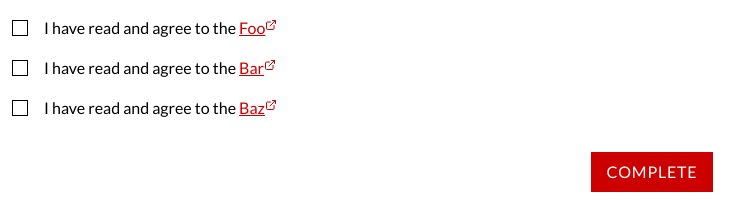
Test: can submit if all required docs reviewed
The image size is (747, 209).
Expected: the button reads "Complete", [590, 152, 713, 192]
Click the checkbox labelled "I have read and agree to the Foo" at (20,28), box [12, 20, 28, 36]
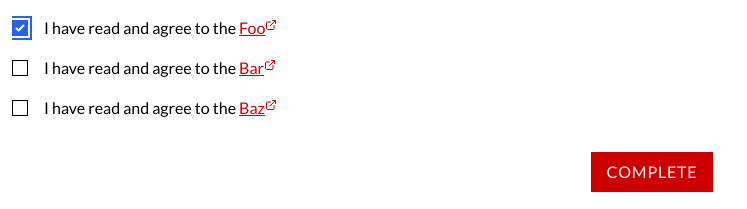
Click the checkbox labelled "I have read and agree to the Bar" at (20,68), box [12, 60, 28, 76]
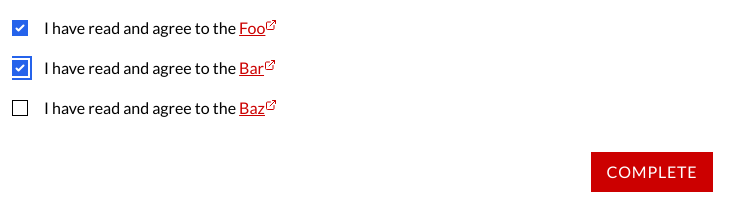
Click the button at (652,172), box [590, 152, 713, 192]
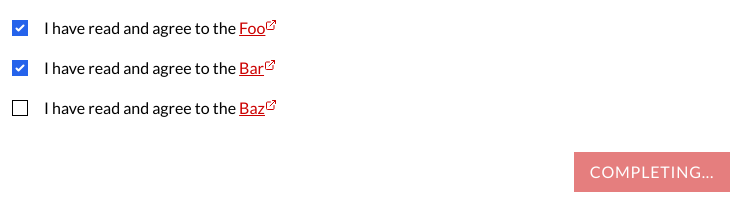
Expected: the button reads "Completing...", [574, 152, 730, 192]
